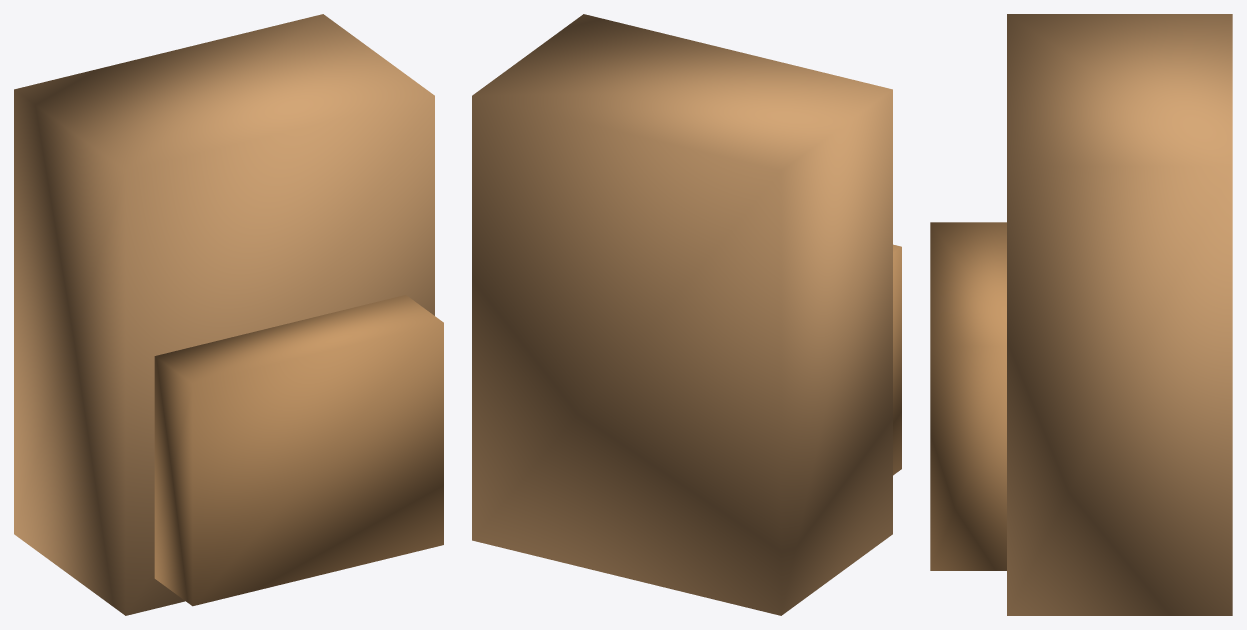
The model's file is backpack.glb.
The picture shows the model from 3 angles, left to right: view 1: azimuth 30°, elevation 25°; view 2: azimuth 150°, elevation 25°; view 3: azimuth 270°, elevation 25°; orthographic projection.
Visible parts, largest first — view 1: main, pocket; view 2: main, pocket; view 3: main, pocket.
Part boxes in pixels (<box>): main: <box>14,14,434,615</box>; pocket: <box>154,295,443,606</box>; main: <box>472,14,892,615</box>; pocket: <box>893,244,901,475</box>; main: <box>1007,14,1232,615</box>; pocket: <box>930,222,1006,570</box>.
Bounding box in the file's own units: 0.8 × 1.1 × 0.67.
